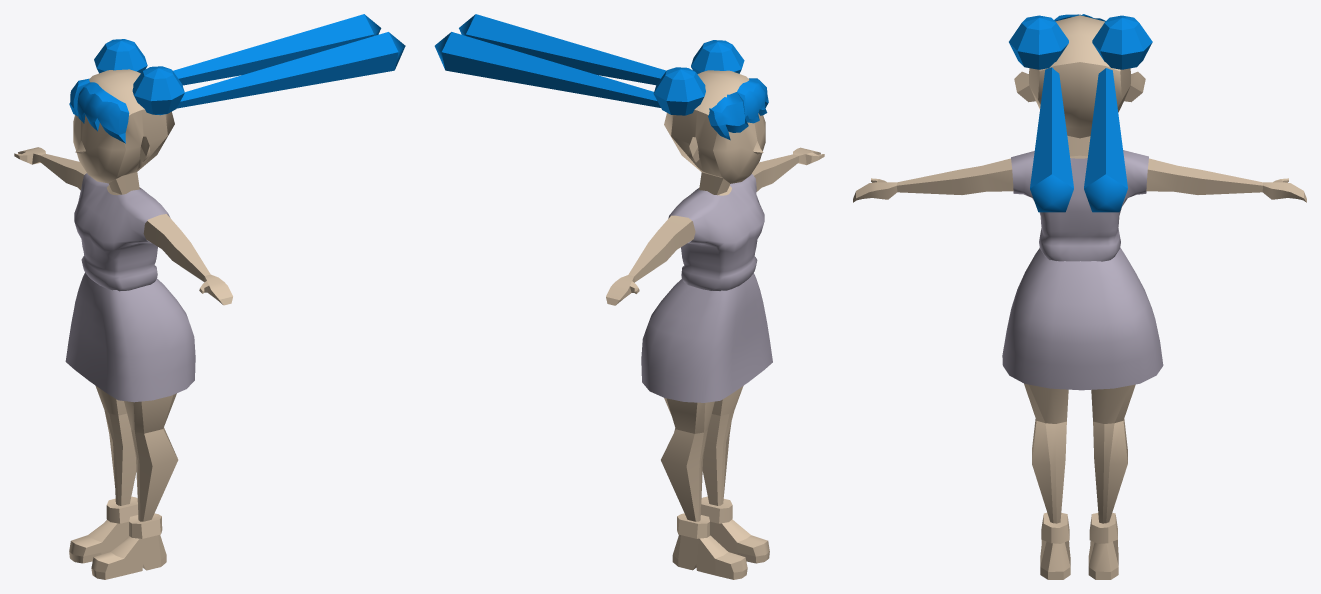
The model's file is KamiUV.fbx.
3 renders of one model, left to right at view 1: azimuth 30°, elevation 25°; view 2: azimuth 150°, elevation 25°; view 3: azimuth 270°, elevation 25°, orthographic. The views are drawn at different scales.
Parts seen in each view (by area): view 1: pCube6, pCube7, pCylinder4; view 2: pCube6, pCube7, pCylinder4; view 3: pCube6, pCube7, pCylinder4.
Boxes of the visible parts, <box> form: pCube6: <box>14,69,232,579</box>; pCube7: <box>65,173,195,402</box>; pCylinder4: <box>69,14,405,143</box>; pCube6: <box>606,70,824,579</box>; pCube7: <box>641,174,772,402</box>; pCylinder4: <box>434,14,768,140</box>; pCube6: <box>853,15,1306,579</box>; pCube7: <box>1002,150,1163,390</box>; pCylinder4: <box>1009,14,1152,212</box>.
Size of the model in its own units: 5.31 by 7.98 by 5.91.
